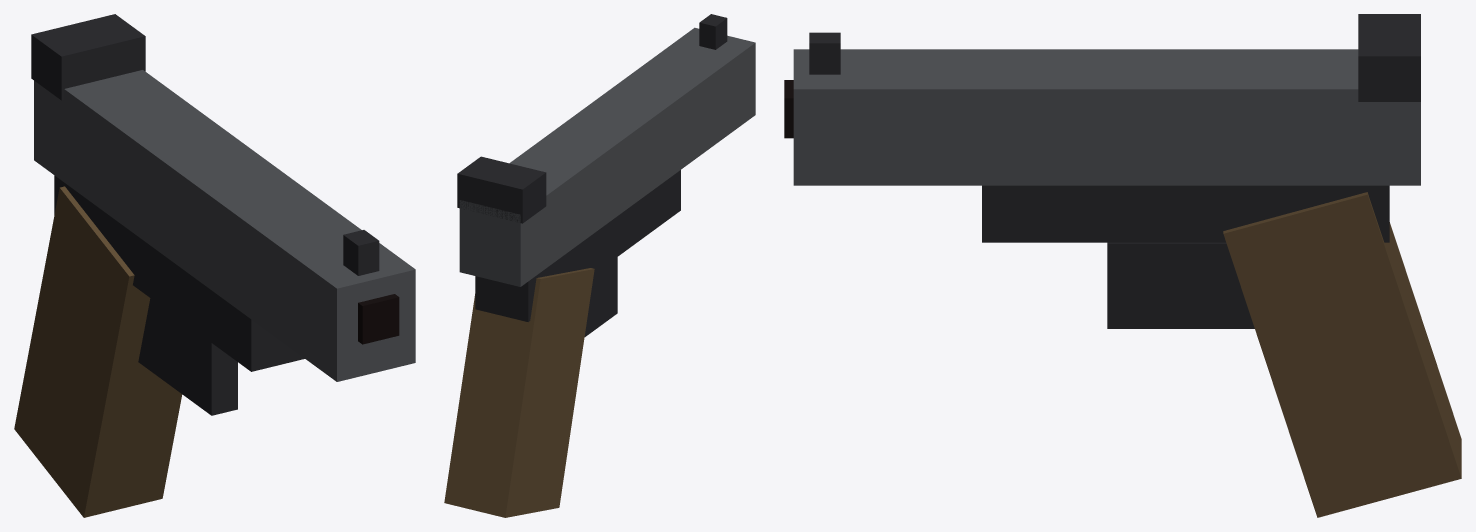
Rendered from pistol.glb.
The picture shows the model from 3 angles, left to right: view 1: azimuth 30°, elevation 25°; view 2: azimuth 150°, elevation 25°; view 3: azimuth 270°, elevation 25°; orthographic projection. The views are drawn at different scales.
Visible parts, largest first — view 1: pistol; view 2: pistol; view 3: pistol.
Part boxes in pixels (box(x1,y1,x2,y2)): pistol: box(14, 14, 415, 517); pistol: box(444, 14, 755, 517); pistol: box(784, 14, 1461, 517).
Size of the model in its own units: 0.032 by 0.1629 by 0.216.
